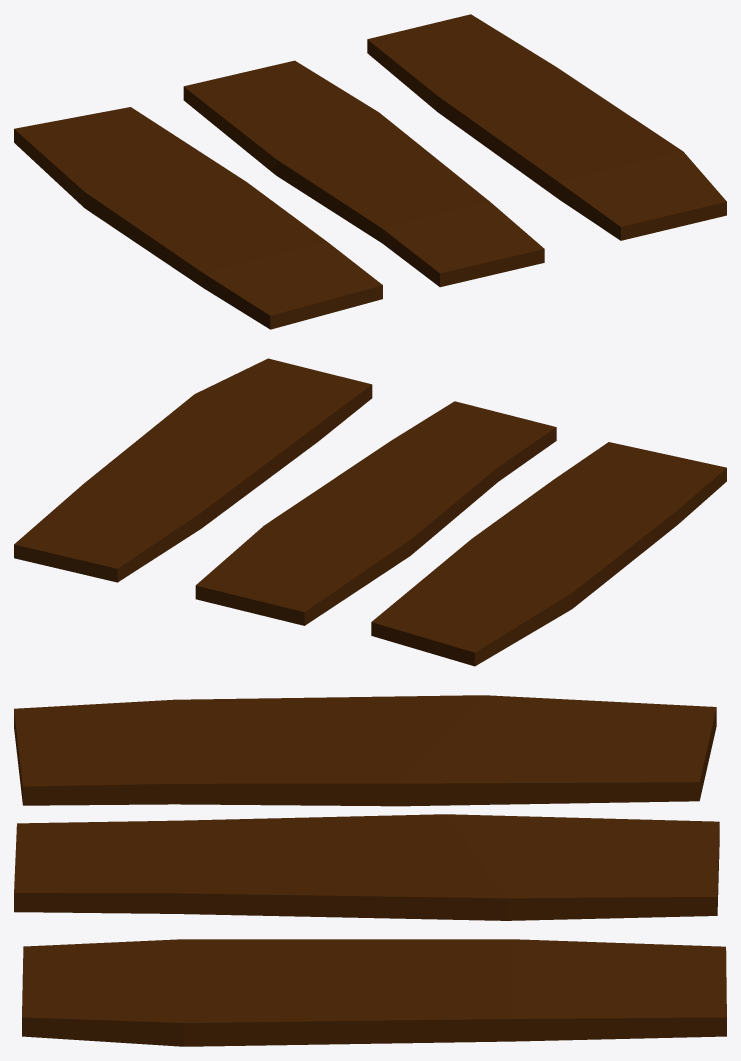
The model's file is plank.fbx.
3 views of the same model, one above another, from view 1: azimuth 30°, elevation 25°; view 2: azimuth 150°, elevation 25°; view 3: azimuth 270°, elevation 25° (orthographic). The views are drawn at different scales.
Visible parts, largest first — view 1: Cube.002, Cube, Cube.001; view 2: Cube.002, Cube, Cube.001; view 3: Cube.002, Cube, Cube.001.
Part boxes in pixels (x1,y1,x2,y2): Cube.002: (14,107,382,329); Cube: (367,14,726,240); Cube.001: (183,60,544,287); Cube.002: (371,442,726,666); Cube: (14,358,372,582); Cube.001: (195,401,556,625); Cube.002: (14,695,716,806); Cube: (22,939,726,1046); Cube.001: (14,814,719,920).
Size of the model in its own units: 592 by 19.92 by 543.
